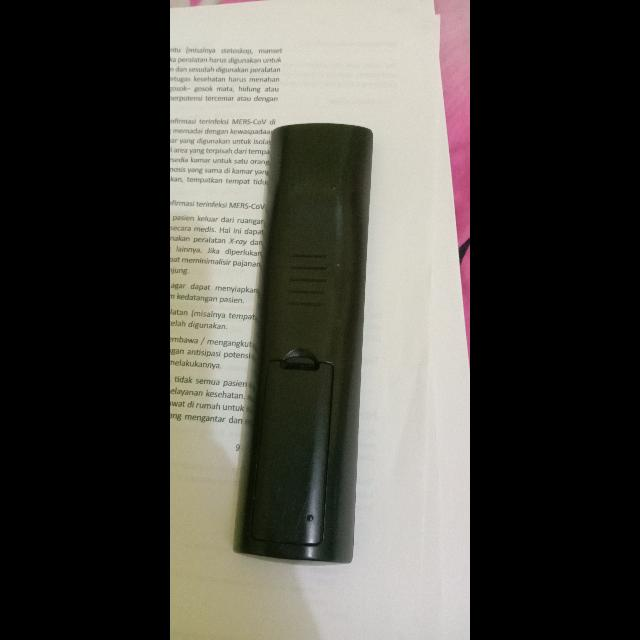TV-Remote-Control: (221, 120, 381, 583)
